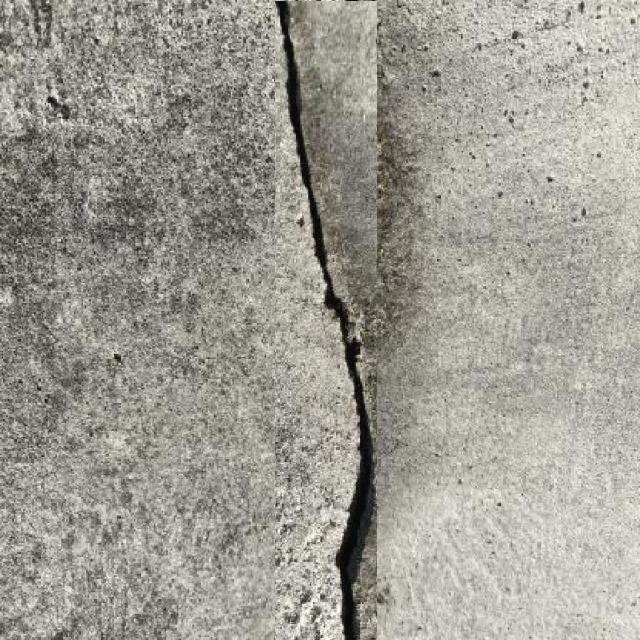vertical crack: (275, 1, 377, 640)
